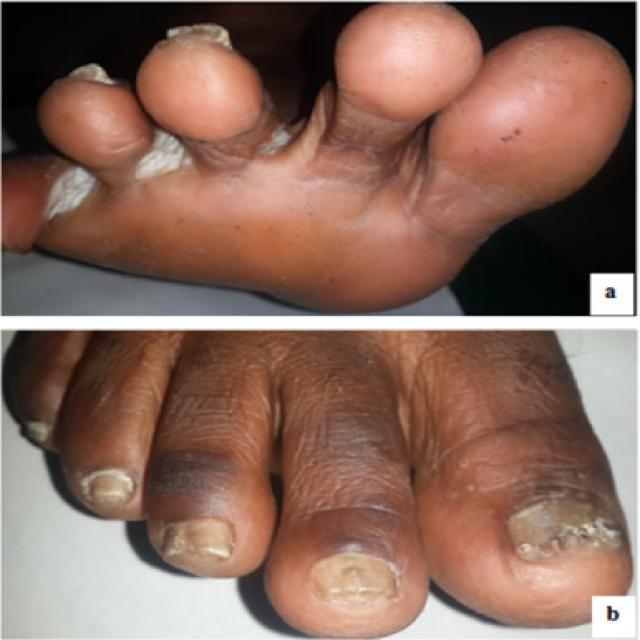tinea: (22, 6, 627, 293), (18, 335, 630, 616)
